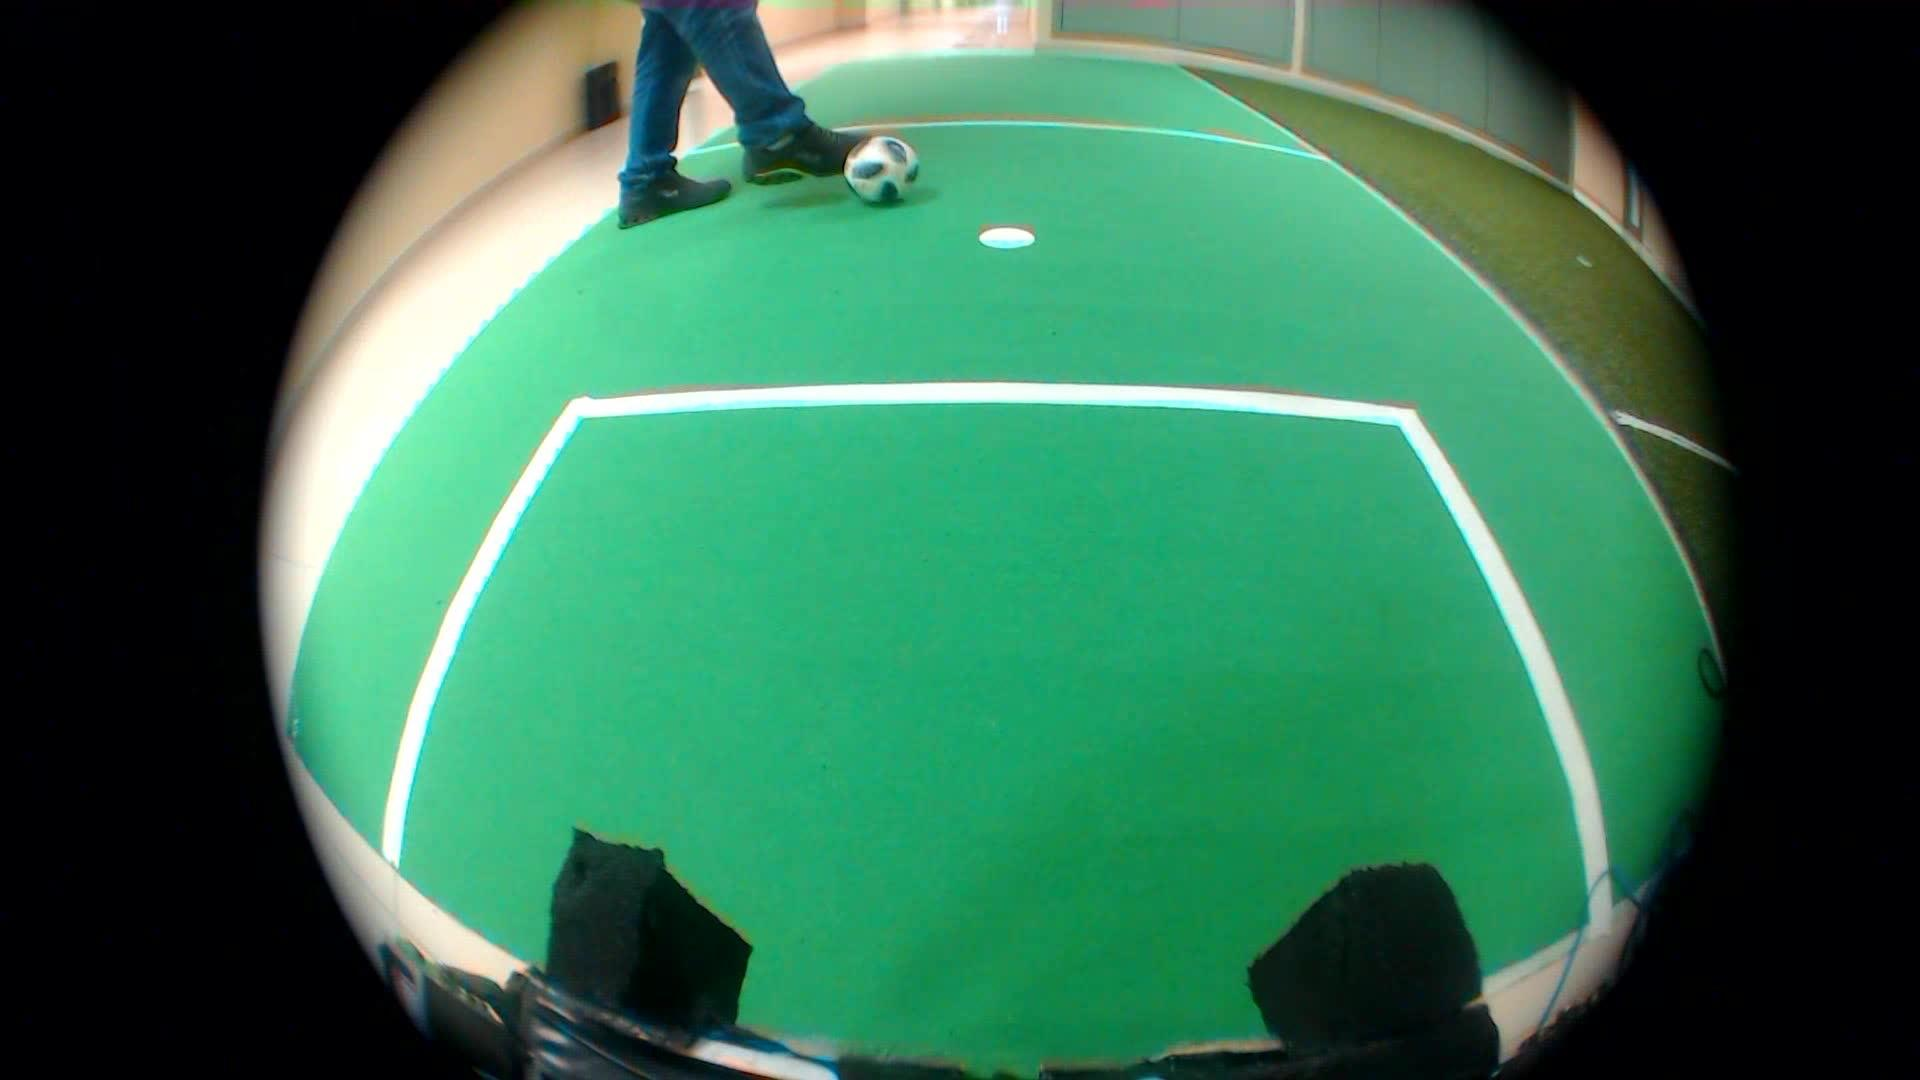ball: (840, 121, 927, 212)
